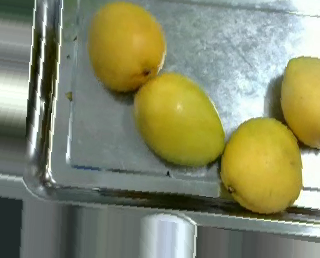Mango: (131, 70, 227, 169), (222, 115, 306, 217), (87, 1, 169, 89), (277, 50, 320, 151)
